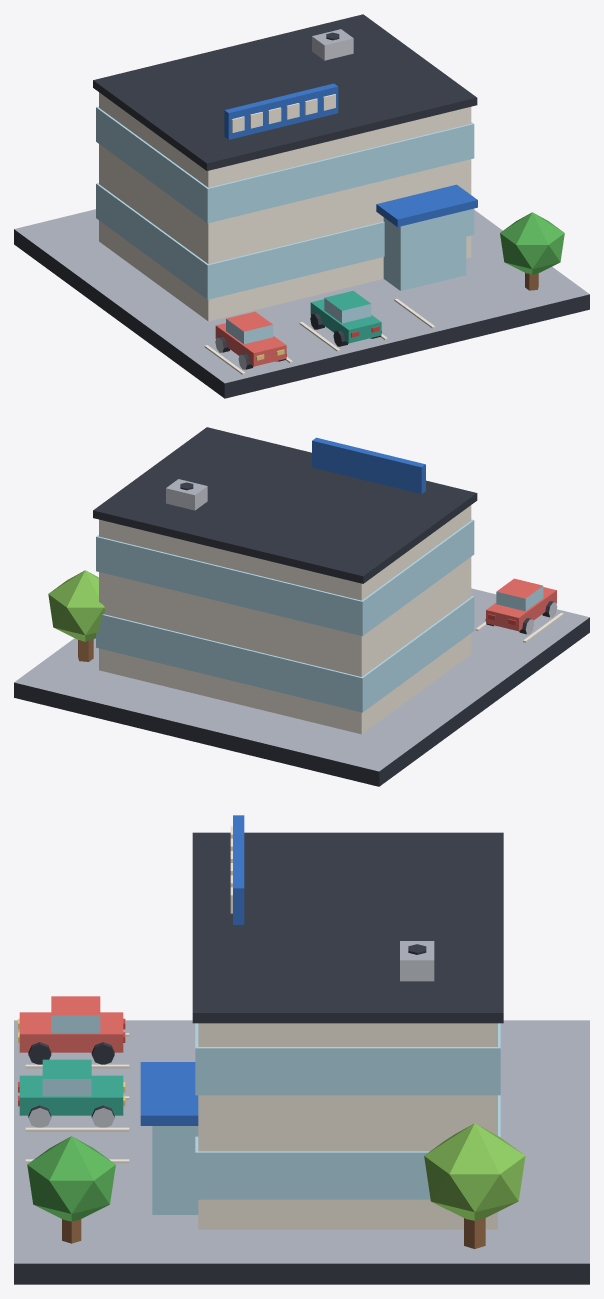
File: office_small.glb
3 renders of one model, top to bottom at view 1: azimuth 30°, elevation 25°; view 2: azimuth 150°, elevation 25°; view 3: azimuth 270°, elevation 25°, orthographic. The views are drawn at different scales.
Visible parts, largest first — view 1: office_small; view 2: office_small; view 3: office_small.
Boxes of the visible parts, x1,y1,x2,y2 form: office_small: (14,14,589,398); office_small: (14,427,589,786); office_small: (14,815,589,1284).
Bounding box in the file's own units: 1.01 × 0.54 × 1.
